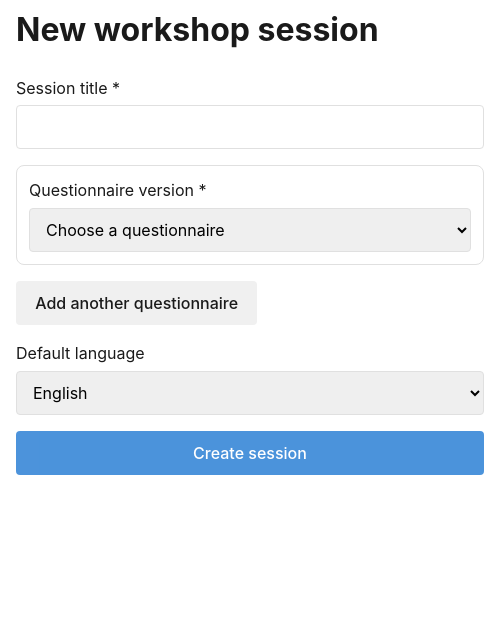
Test: SessionNew.vue › shows a private-model notice with a checkbox checked by default once a private model is selected
Select "Private model (v1.0.0)" in the dropdown labelled "Questionnaire version *": [250, 230] box [29,208,471,252]
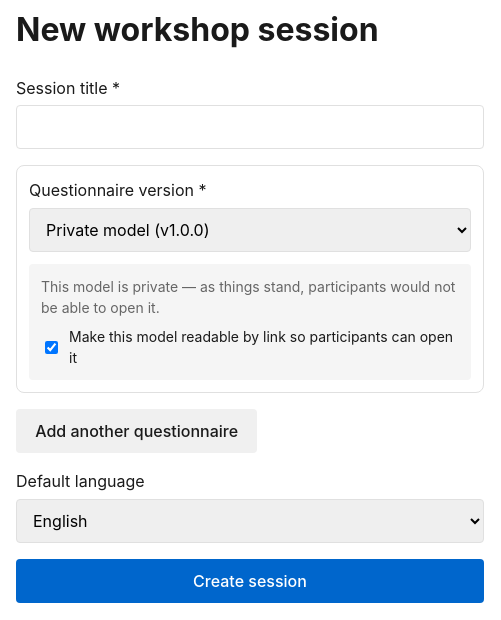
Check: the text "This model is private — as things stand, participants would not be able to open it." is shown, box [41,278,455,316]
Check: the text "Make this model readable by link so participants can open it" is shown, box [69,326,459,368]
Check: the checkbox labelled "Make this model readable by link so participants can open it" is checked, box [45,341,58,354]
